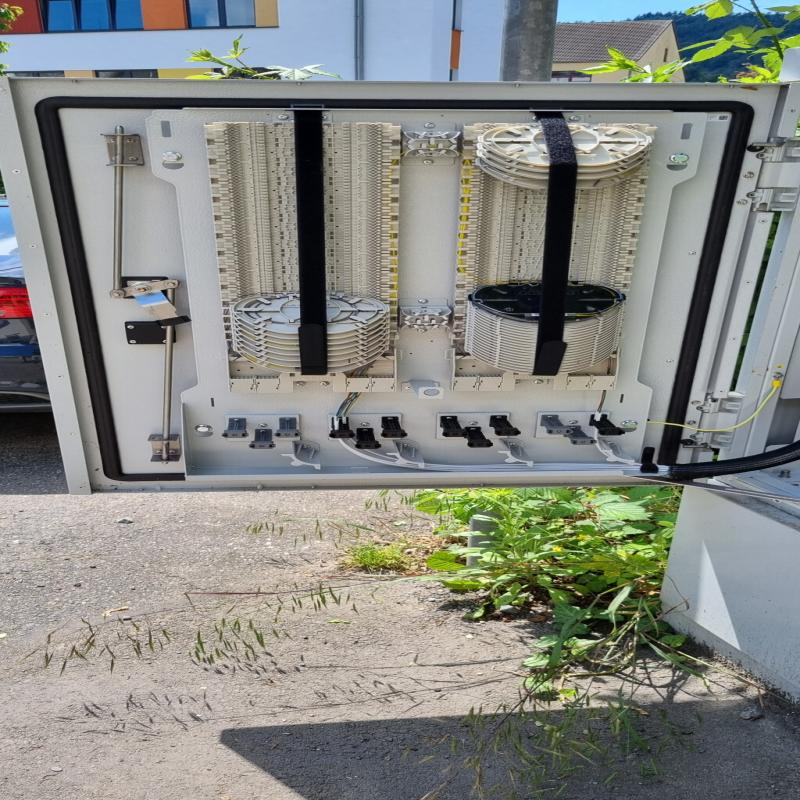NT-Gehause: (0, 75, 796, 700)
Spleiskassetten: (200, 119, 420, 400), (440, 120, 663, 396)
